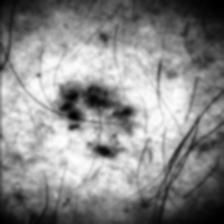Potentially Malignant Skin Tumors: (54, 76, 136, 160)
